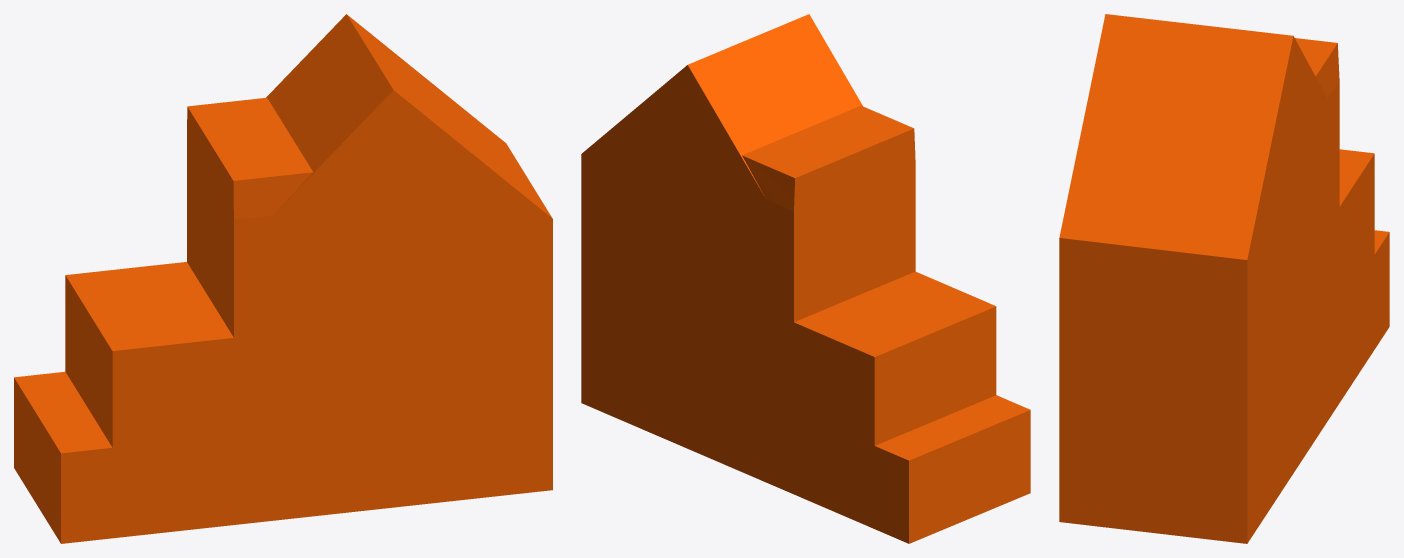
The model's file is DEHB01ALj0003AHx.dae.
3 renders of one model, left to right at view 1: azimuth 30°, elevation 25°; view 2: azimuth 150°, elevation 25°; view 3: azimuth 270°, elevation 25°, orthographic. The views are drawn at different scales.
Size of the model in its own units: 14.49 by 8.46 by 12.38.
